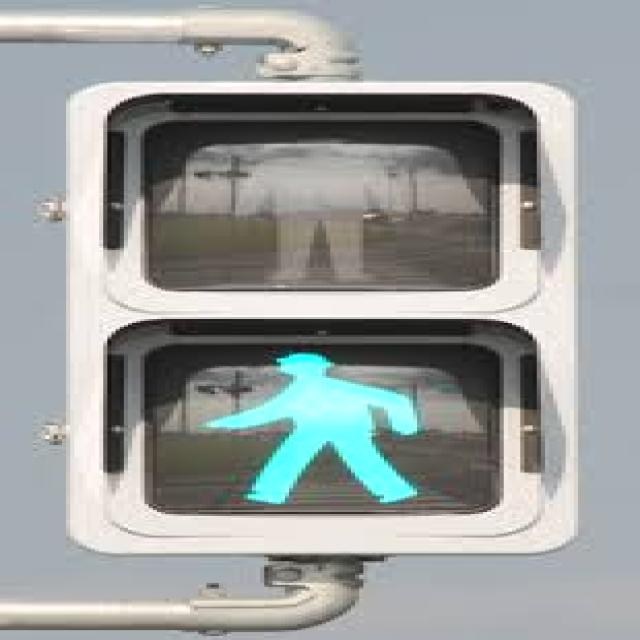trafficlight: (54, 79, 586, 553)
